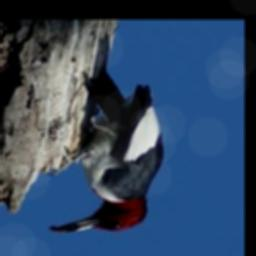Woodpecker: (49, 32, 164, 234)
